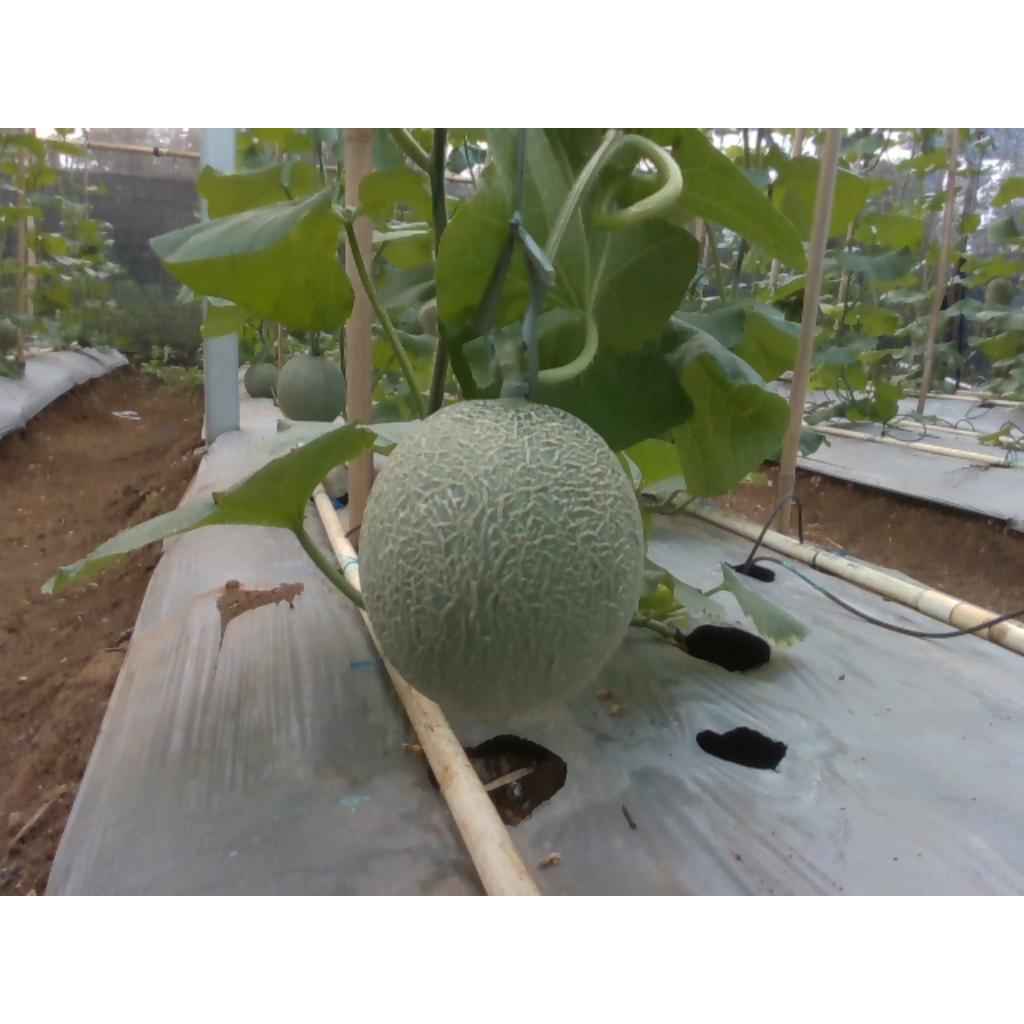melon: (362, 400, 643, 714)
